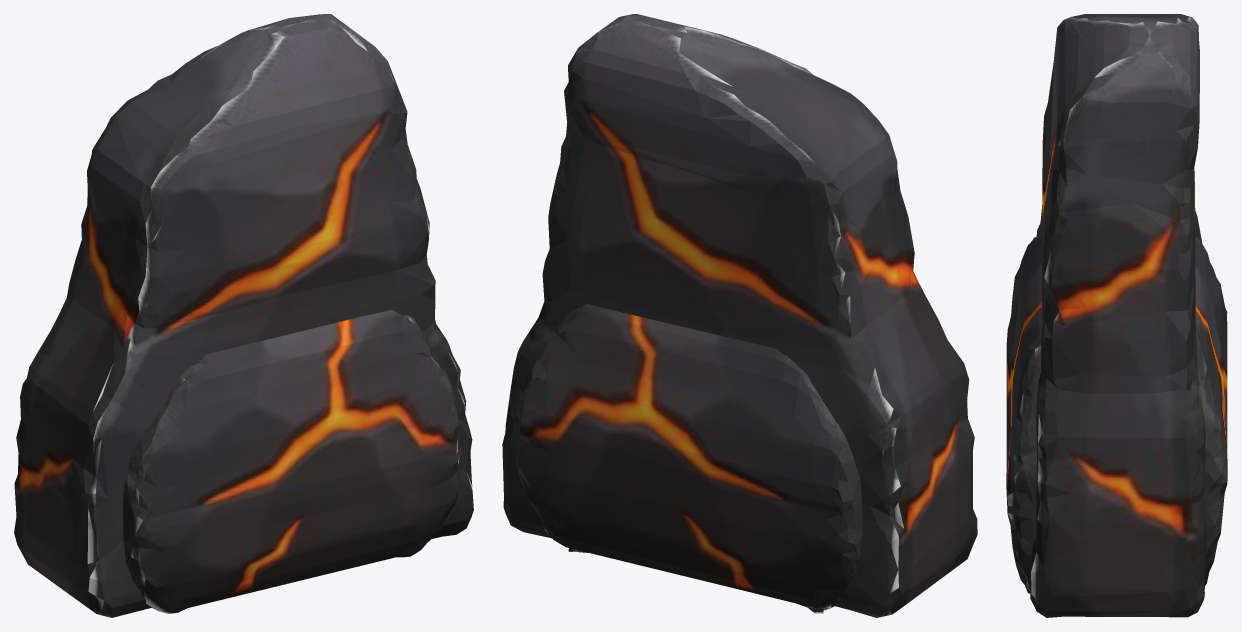
The model's file is rocks_ash.glb.
The picture shows the model from 3 angles, left to right: view 1: azimuth 30°, elevation 25°; view 2: azimuth 150°, elevation 25°; view 3: azimuth 270°, elevation 25°; orthographic projection. The views are drawn at different scales.
Visible parts, largest first — view 1: rock_tall, rock_round; view 2: rock_tall, rock_round; view 3: rock_tall, rock_round.
Boxes of the visible parts, x1=… form: rock_tall: x1=14, y1=14, x2=473, y2=617; rock_round: x1=123, y1=310, x2=461, y2=613; rock_tall: x1=502, y1=14, x2=977, y2=617; rock_round: x1=516, y1=304, x2=862, y2=610; rock_tall: x1=1029, y1=14, x2=1206, y2=617; rock_round: x1=1006, y1=233, x2=1227, y2=593.
Size of the model in its own units: 1.2 by 1.49 by 0.5615.
1 material, 1 textured.
